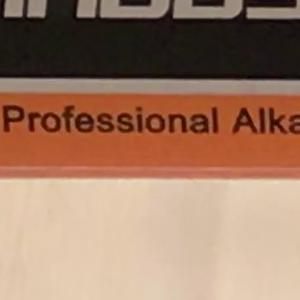keyword: (223, 97, 289, 143)
